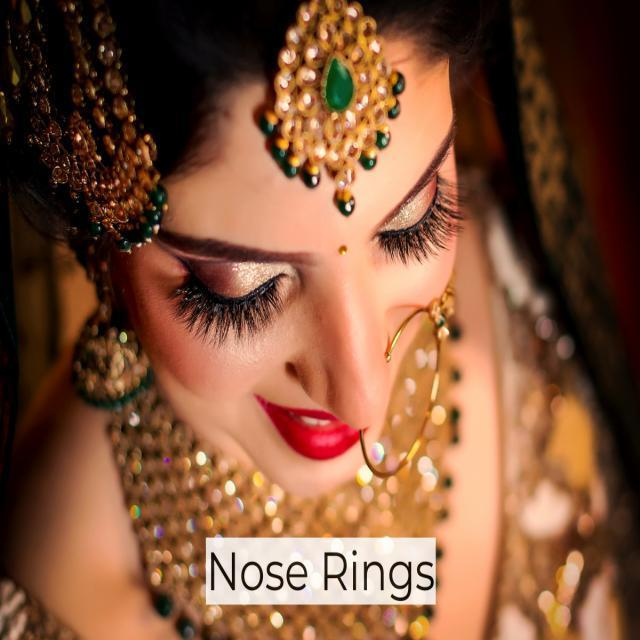Earring: (59, 219, 158, 422)
